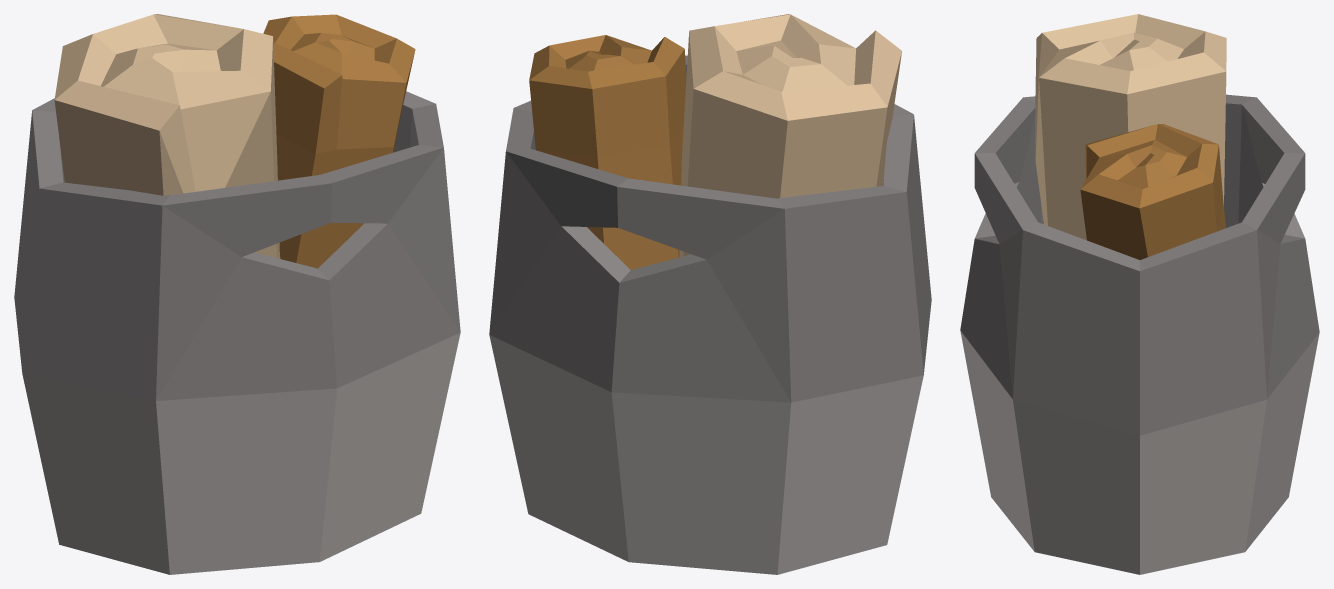
Rendered from furniture-bag-storage-towels.glb.
3 renders of one model, left to right at view 1: azimuth 30°, elevation 25°; view 2: azimuth 150°, elevation 25°; view 3: azimuth 270°, elevation 25°, orthographic. The views are drawn at different scales.
Parts seen in each view (by area): view 1: bag-storage-towels; view 2: bag-storage-towels; view 3: bag-storage-towels.
Boxes of the visible parts, <box> form: bag-storage-towels: <box>14,14,460,574</box>; bag-storage-towels: <box>489,14,931,574</box>; bag-storage-towels: <box>960,14,1319,574</box>.
Bounding box in the file's own units: 0.5121 × 0.5411 × 0.4131.
